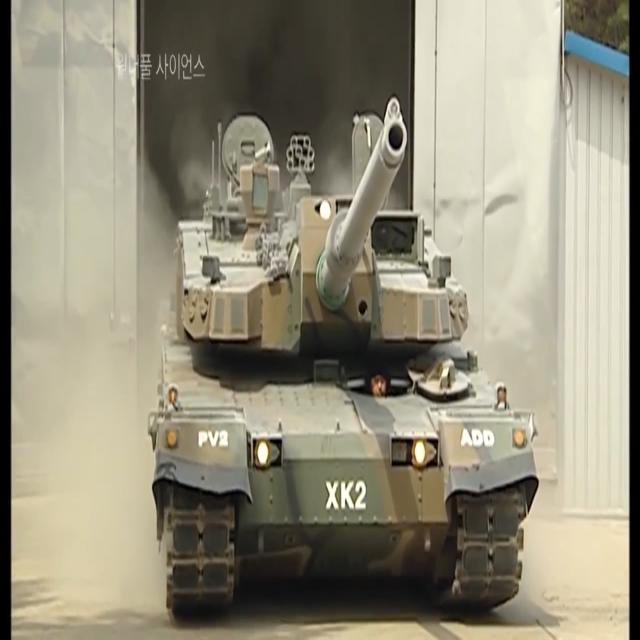korea tank: (144, 91, 540, 617)
